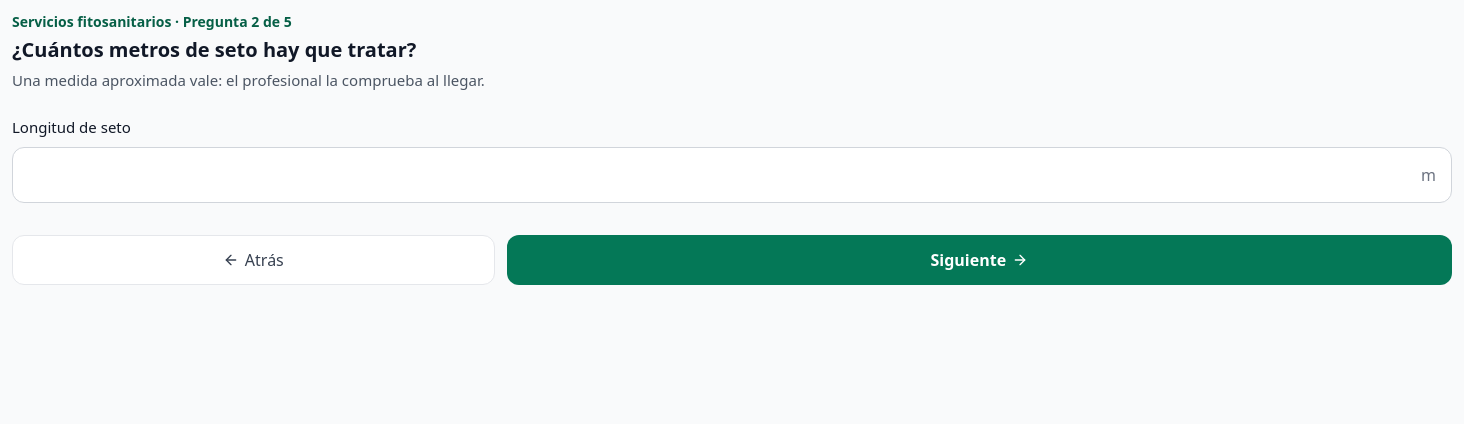
Test: fitosanitarios · tratamiento, producto y extras › setos: última pantalla «¿Son setos altos?» con el corte de 2,5 m
Earlier steps of the test are not shown.
Type "20" into the field labelled "Longitud de seto". click: [732, 174]
box: [12,146,1452,202]
Click the button "Siguiente". click: [979, 260]
box: [507,234,1452,284]
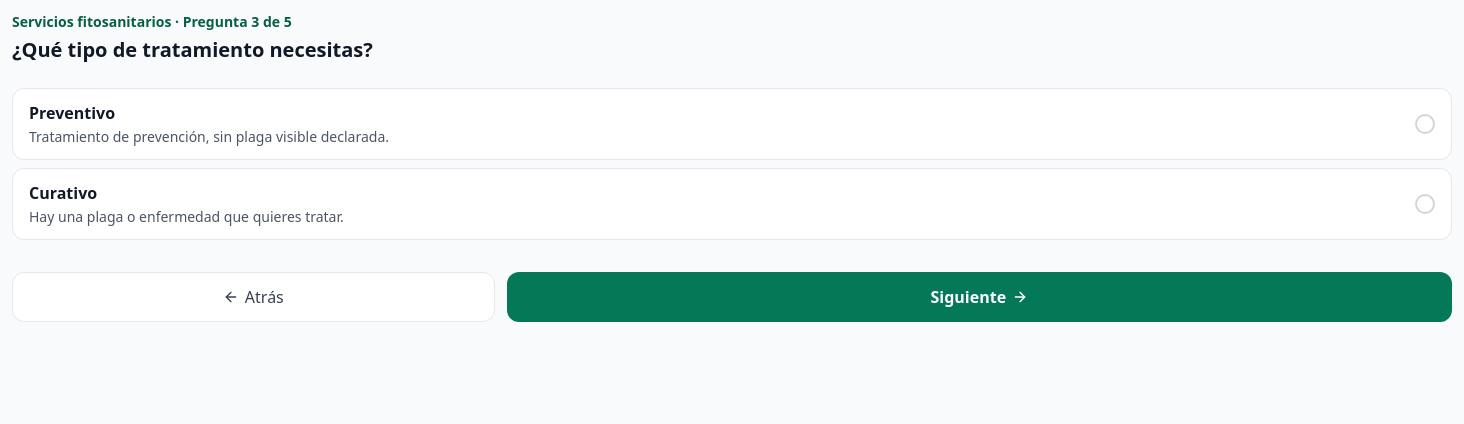
Click the radio button that starts with "Preventivo". click: [72, 113]
box: [12,88,1452,160]
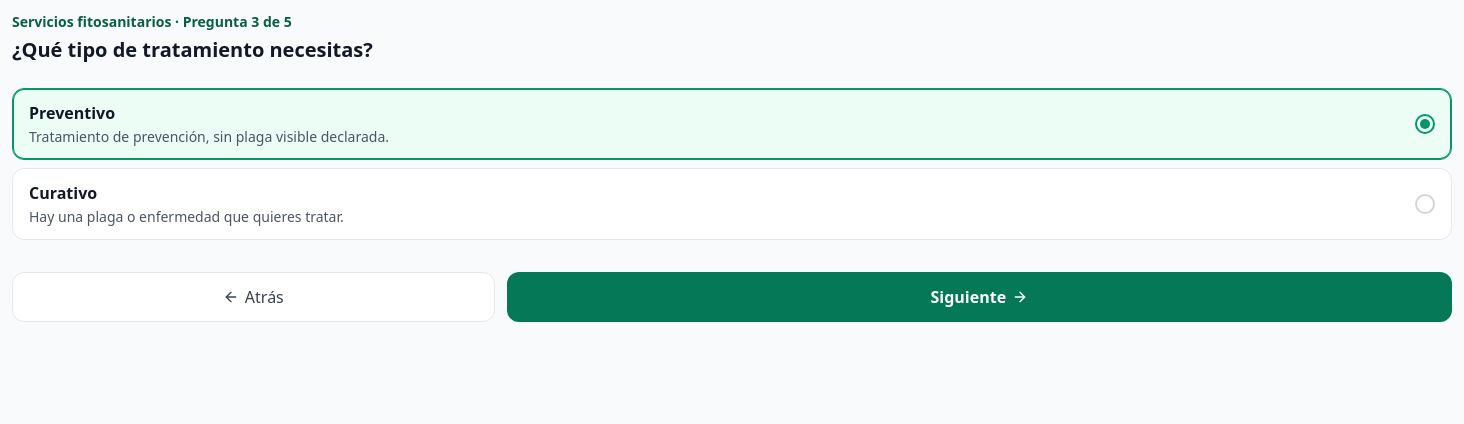
Click the button "Siguiente". click: [979, 297]
box: [507,272,1452,322]
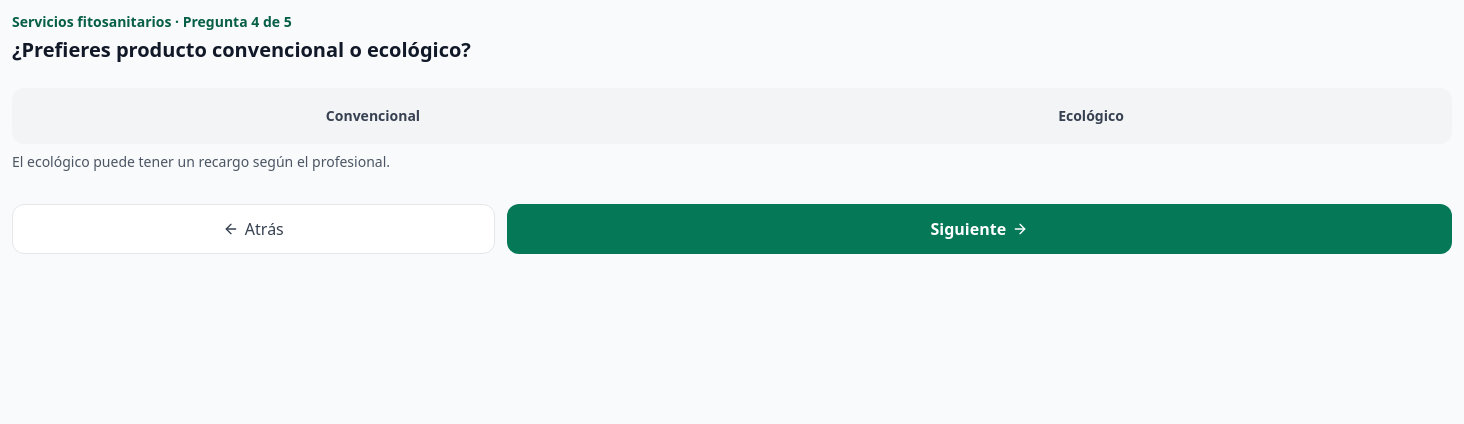
Click the radio button labelled "Convencional". click: [373, 116]
box: [16,92,730,140]
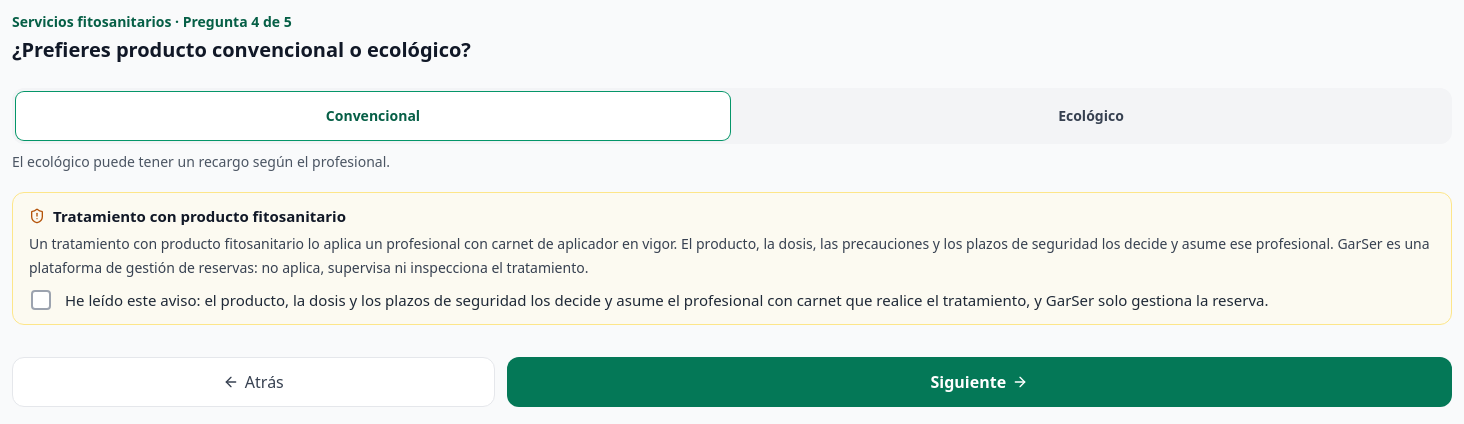
Click the checkbox named "He leído este aviso: el producto, la dosis y los plazos de s". click: [732, 300]
box: [29,288,1435,312]
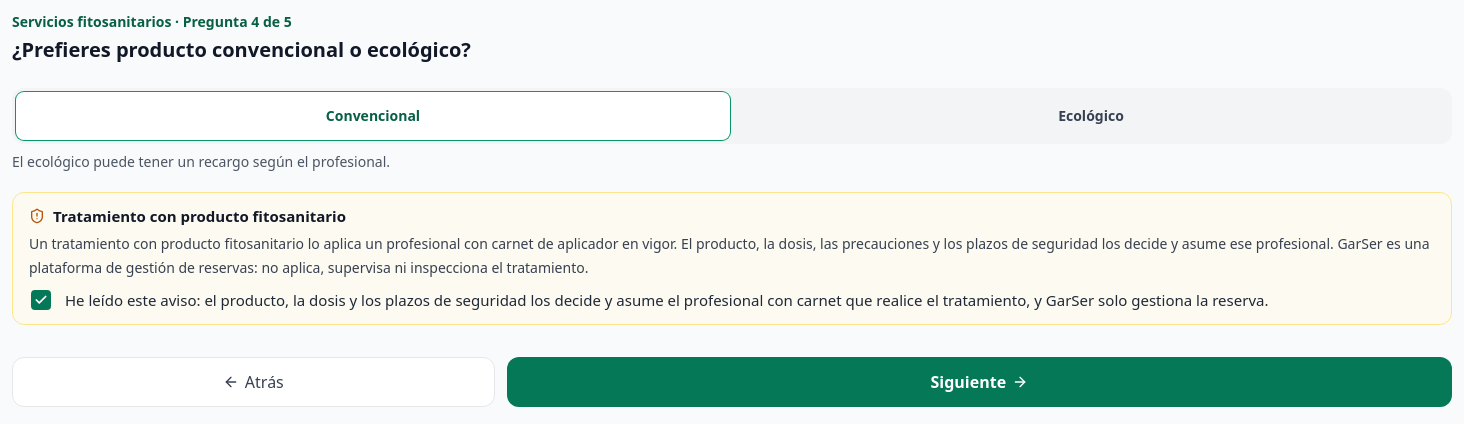
Click the button "Siguiente". click: [979, 382]
box: [507,356,1452,406]
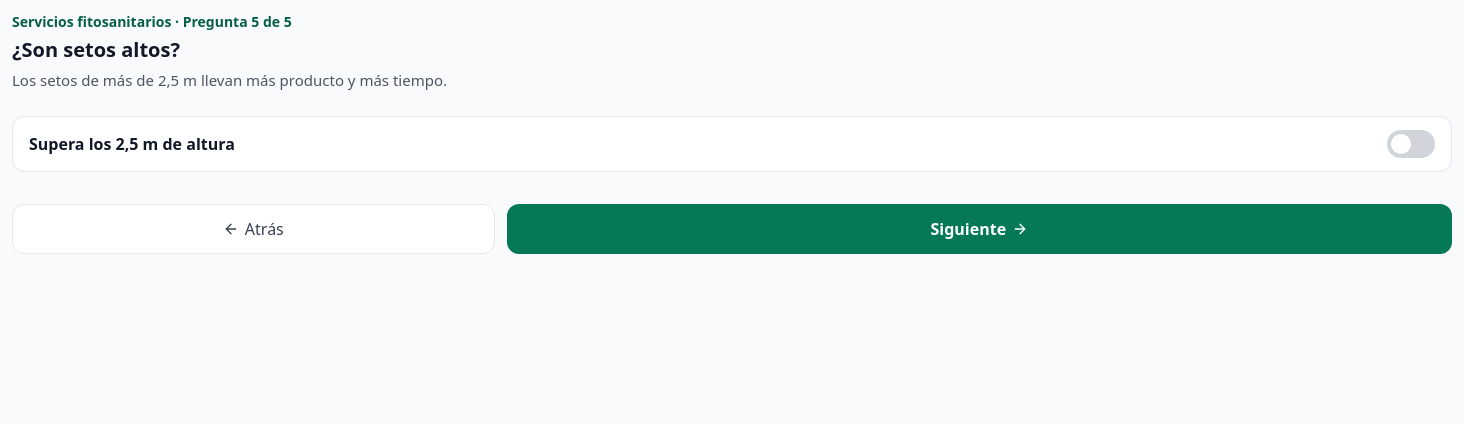
Result: the heading reads "¿Son setos altos?" at [12,36,180,63]
Result: the text "Servicios fitosanitarios · Pregunta 5 de 5" is shown at [12,12,292,31]
Result: the text "Los setos de más de 2,5 m llevan más producto y más tiempo." is shown at [12,70,447,90]
